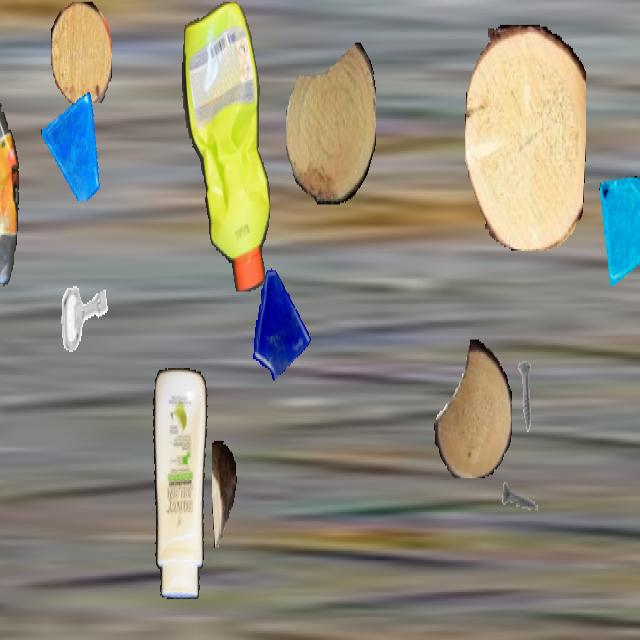glass: (247, 263, 313, 381), (41, 89, 103, 199), (596, 176, 640, 290)
metal: (53, 263, 113, 370), (505, 359, 547, 434), (501, 459, 543, 533), (0, 347, 3, 446)
plastic: (181, 2, 271, 290), (146, 368, 210, 599), (0, 2, 21, 290)
wood: (465, 25, 585, 249), (286, 41, 376, 204), (434, 340, 512, 478), (51, 2, 111, 105), (212, 441, 236, 547)
